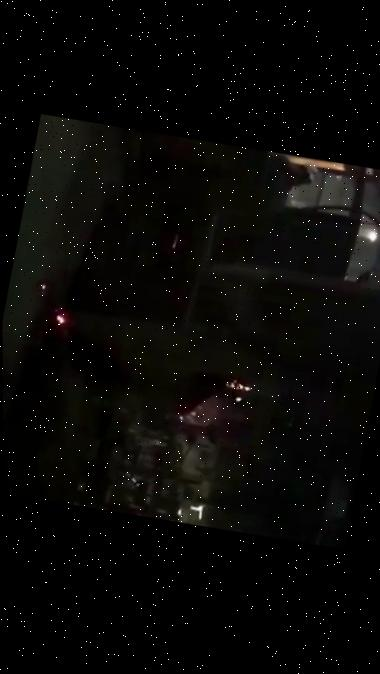fire: (29, 256, 280, 467)
